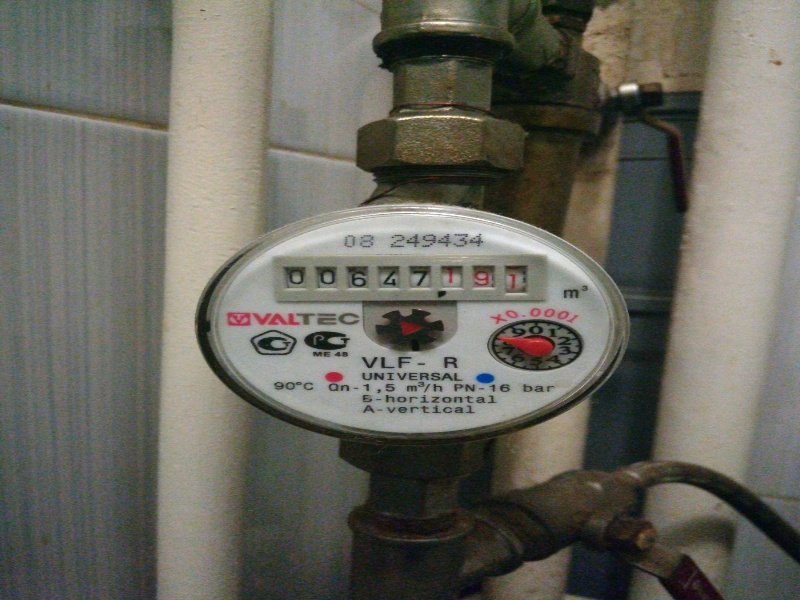dial: (269, 256, 535, 298)
